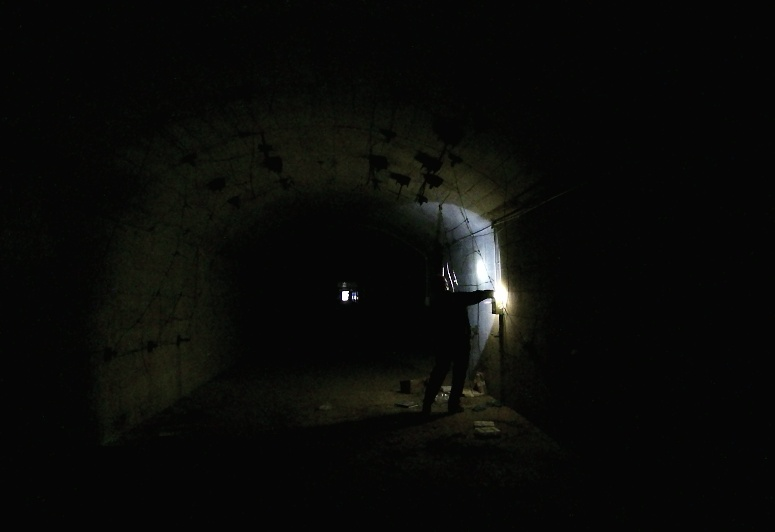person: (420, 276, 496, 419)
